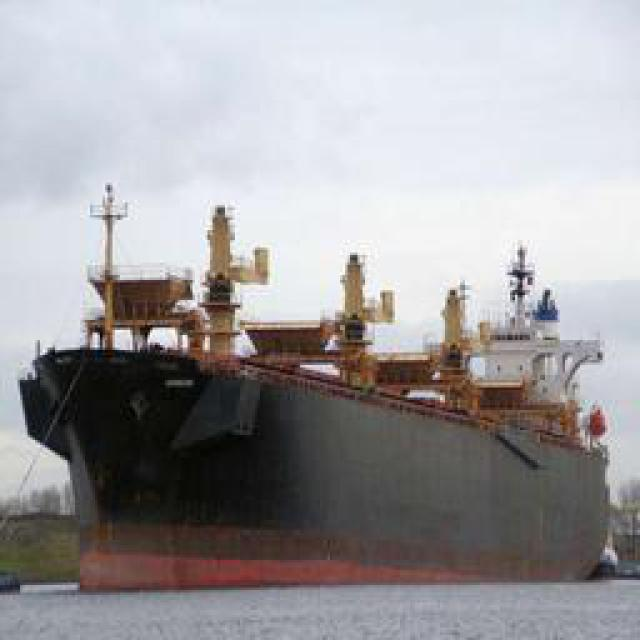Ship: (30, 256, 628, 591)
